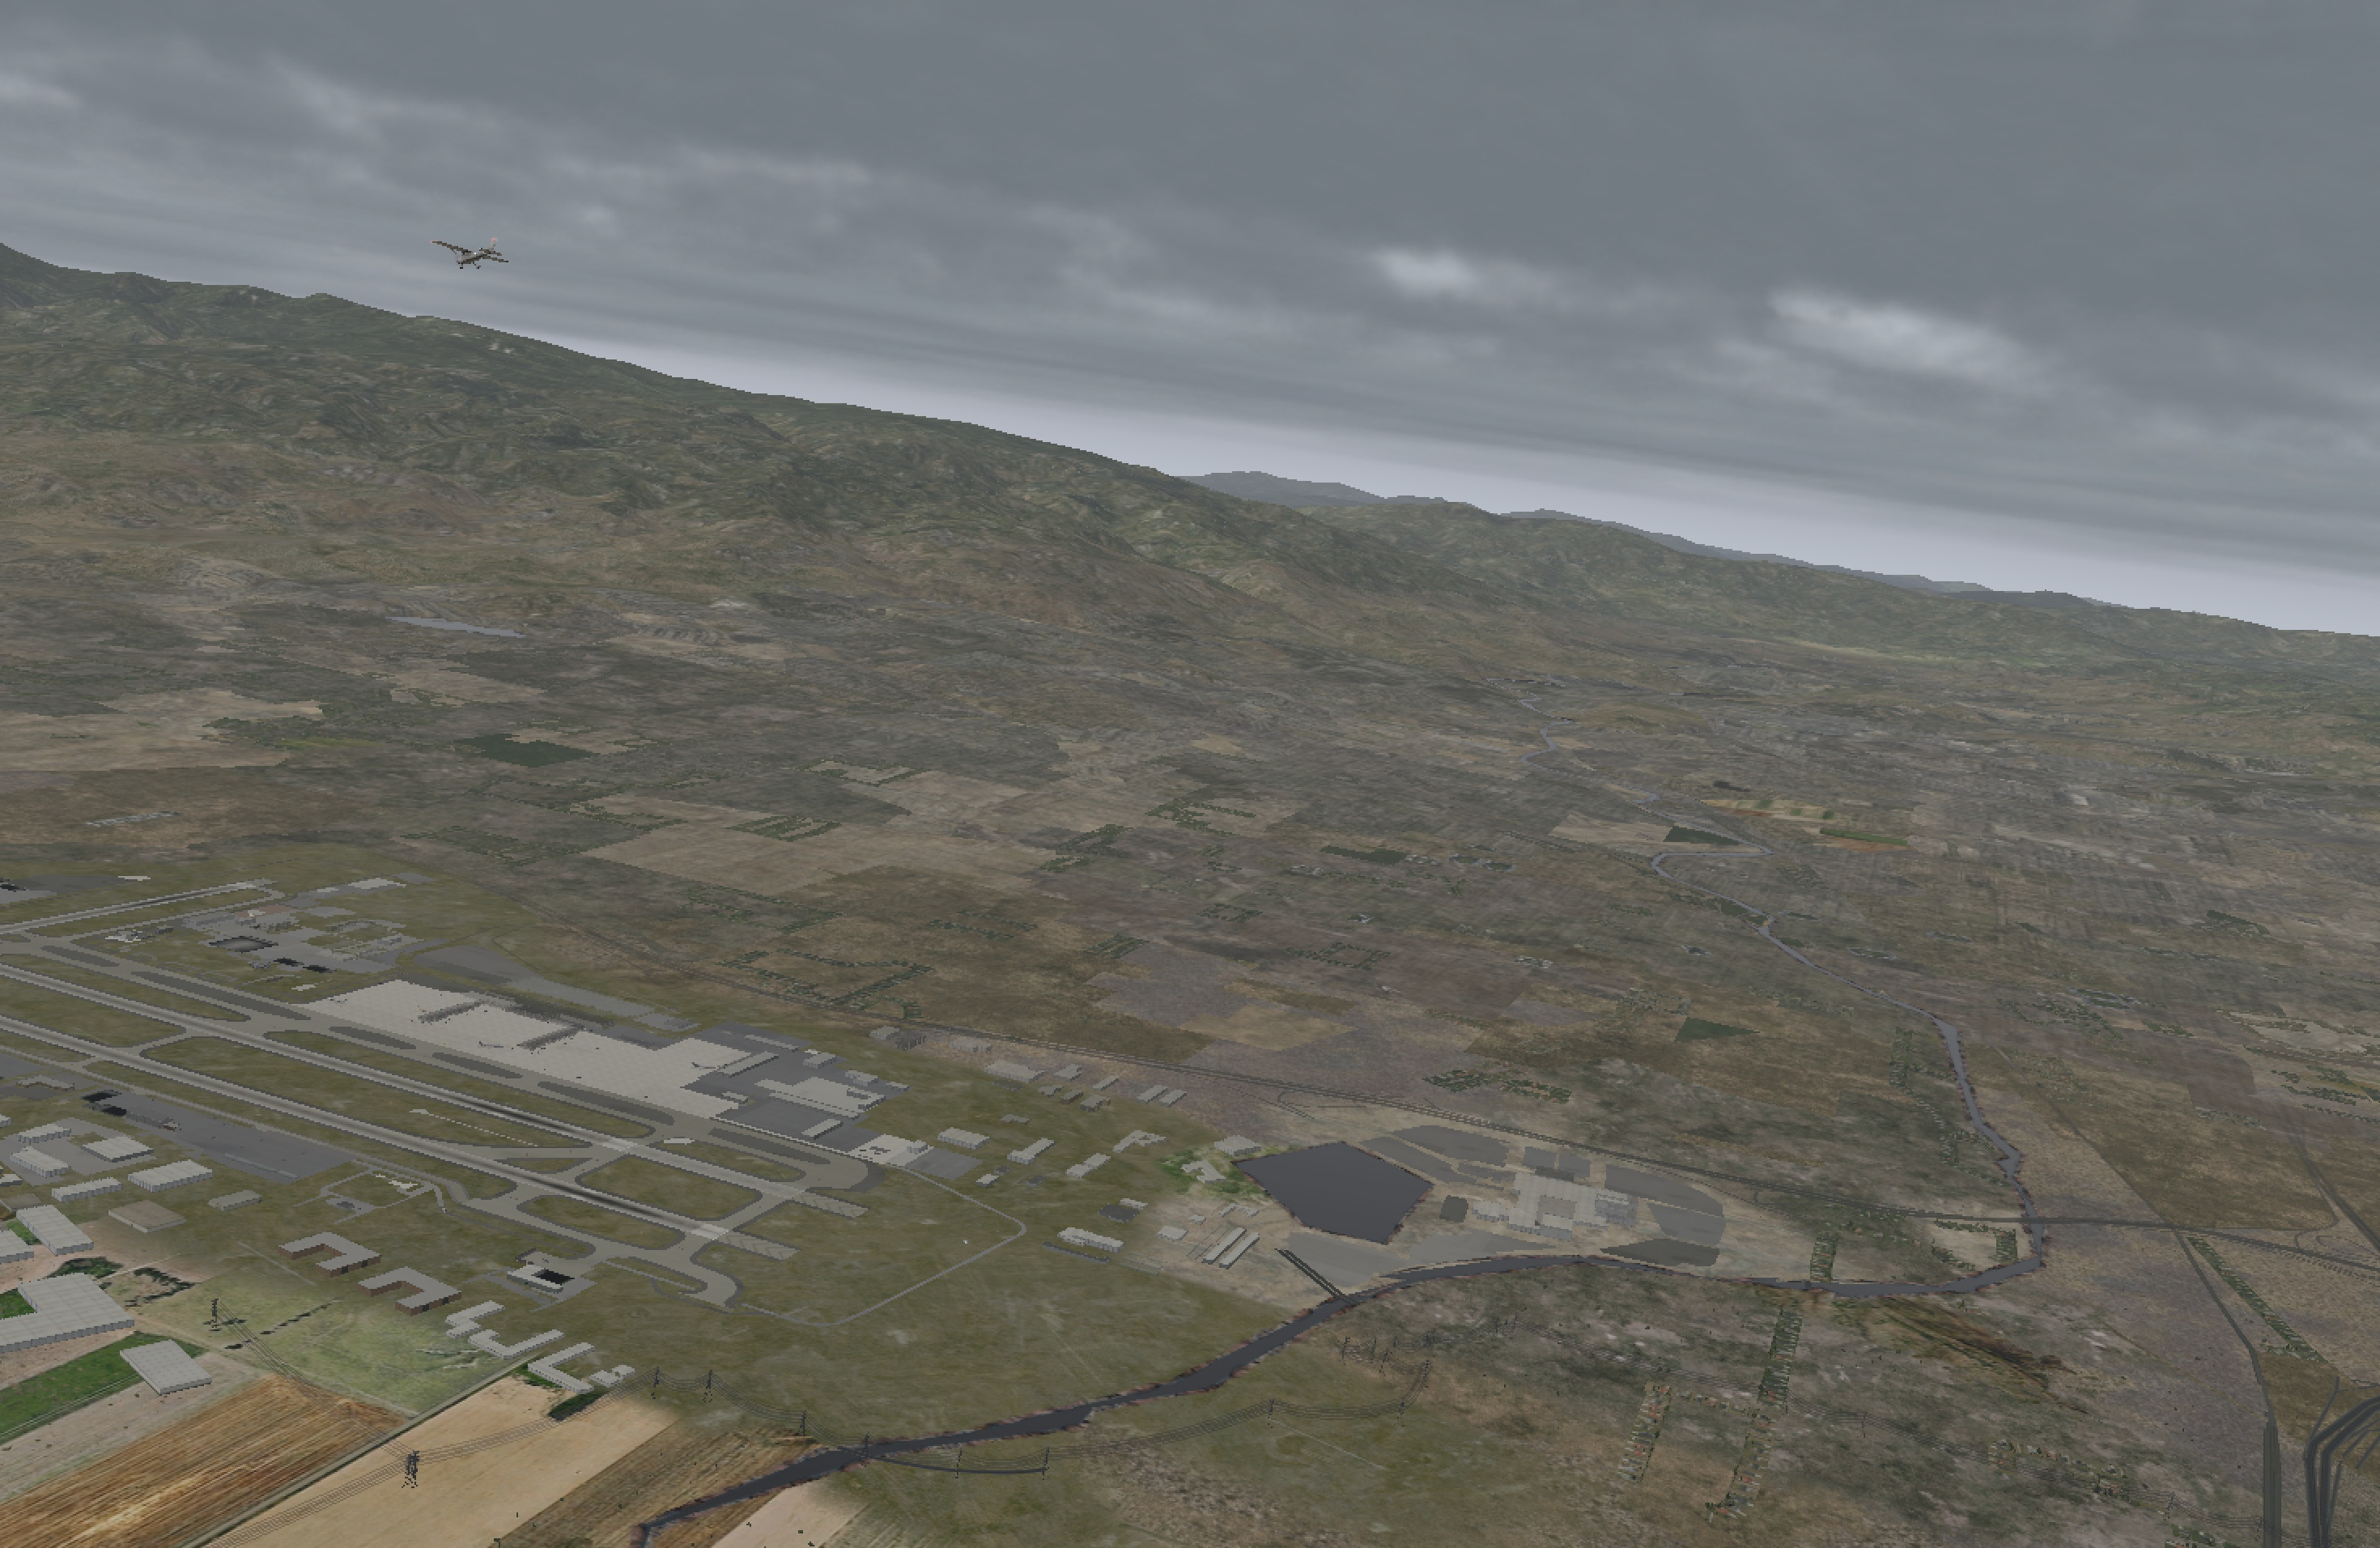aircraft: (441, 246, 496, 267)
